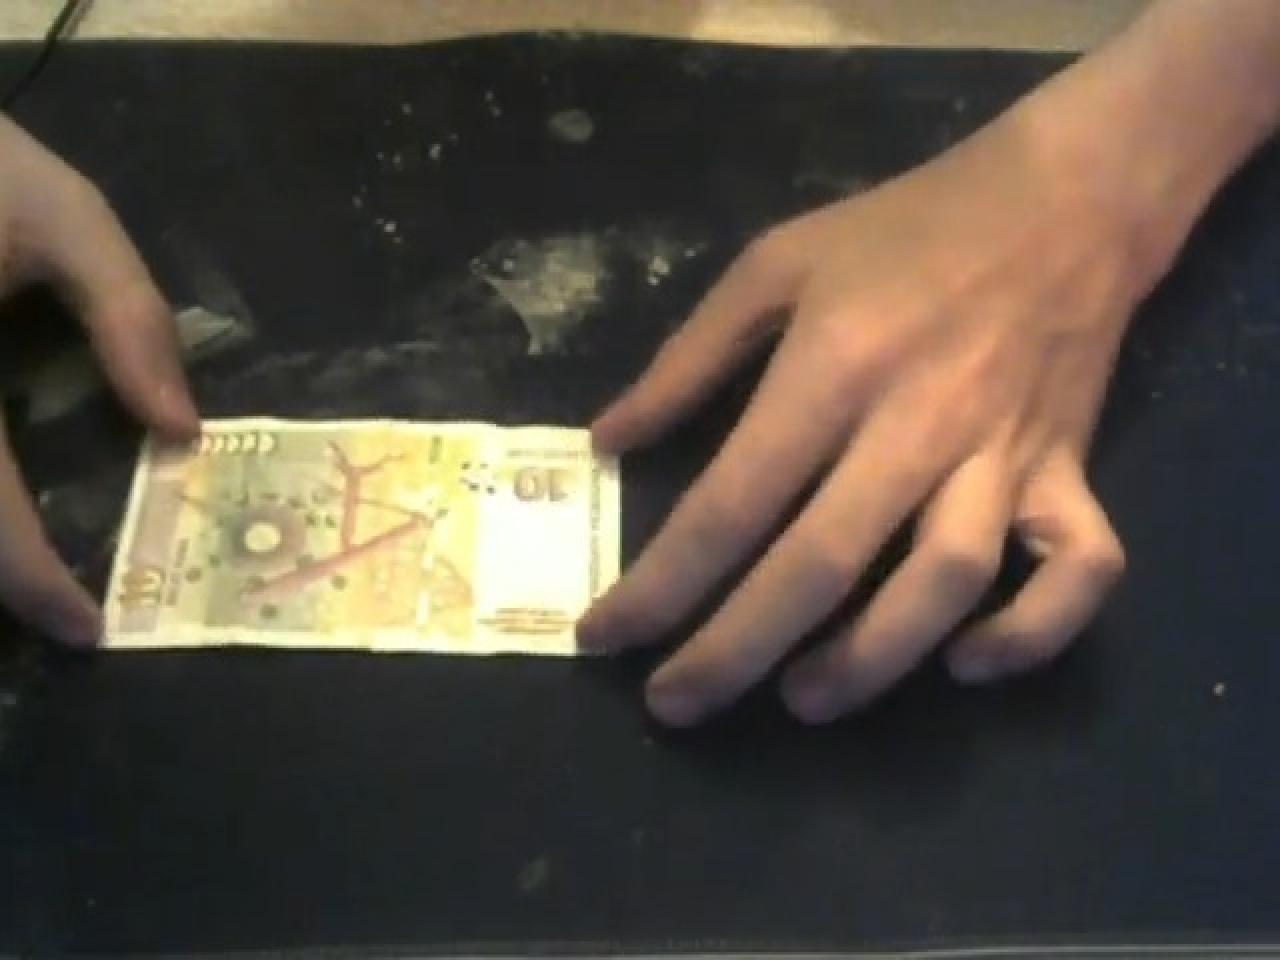10leva: (244, 435, 447, 608), (471, 453, 583, 536), (105, 552, 195, 639)
